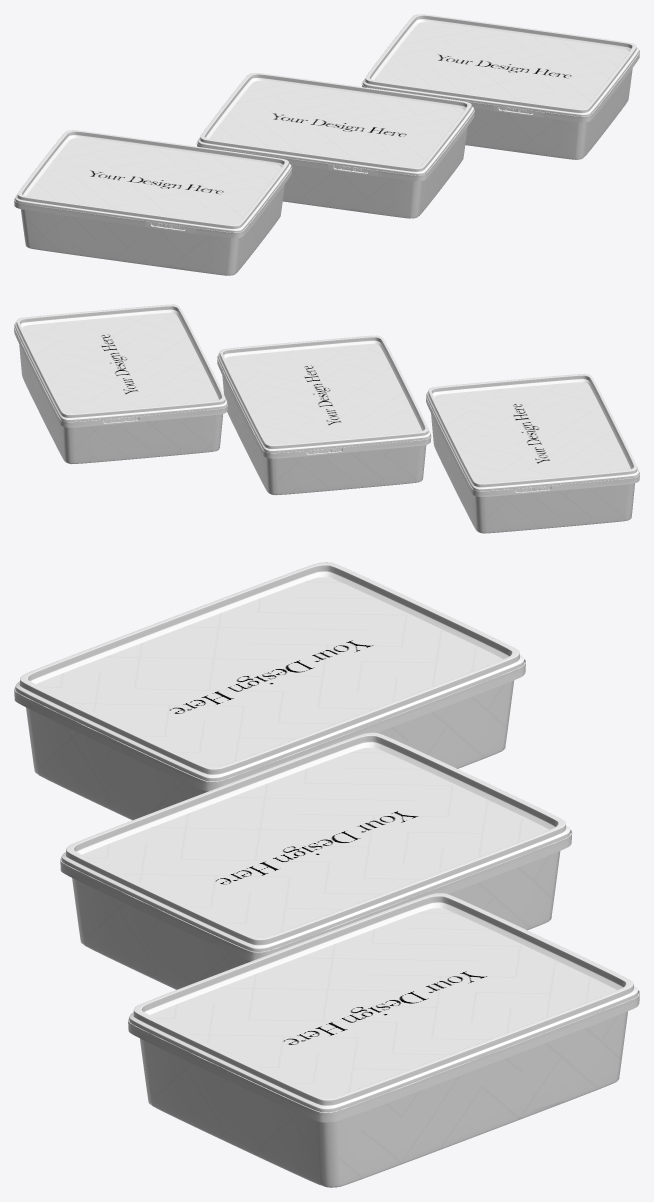
Rendered from TE Angle-5 .glb.
The picture shows the model from 3 angles, top to bottom: view 1: azimuth 30°, elevation 25°; view 2: azimuth 150°, elevation 25°; view 3: azimuth 270°, elevation 25°; orthographic projection. The views are drawn at different scales.
Parts seen in each view (by area): view 1: wrapper.002, wrapper.001, wrapper.003, lid.003, lid.002, lid.001, Plane.024, Plane.001, Plane.048, Bottom.002, Bottom.001, Bottom.003; view 2: wrapper.003, wrapper.002, wrapper.001, lid.003, lid.002, lid.001, Plane.001, Plane.048, Plane.024, Bottom.003, Bottom.001, Bottom.002; view 3: wrapper.003, wrapper.002, wrapper.001, lid.003, lid.002, lid.001, Plane.048, Plane.024, Plane.001, Bottom.003.
Boxes of the visible parts, left/top/right/bottom form: wrapper.002: left=25, top=138, right=284, bottom=275; wrapper.001: left=209, top=80, right=467, bottom=218; wrapper.003: left=374, top=22, right=632, bottom=159; lid.003: left=363, top=14, right=639, bottom=116; lid.002: left=15, top=130, right=291, bottom=232; lid.001: left=198, top=73, right=474, bottom=175; Plane.024: left=14, top=166, right=292, bottom=238; Plane.001: left=196, top=109, right=474, bottom=181; Plane.048: left=361, top=50, right=639, bottom=122; Bottom.002: left=20, top=184, right=284, bottom=275; Bottom.001: left=410, top=127, right=467, bottom=218; Bottom.003: left=575, top=69, right=632, bottom=159; wrapper.003: left=19, top=312, right=222, bottom=464; wrapper.002: left=431, top=382, right=634, bottom=533; wrapper.001: left=222, top=343, right=426, bottom=495; lid.003: left=14, top=304, right=227, bottom=421; lid.002: left=426, top=373, right=638, bottom=491; lid.001: left=218, top=335, right=430, bottom=452; Plane.001: left=217, top=356, right=431, bottom=458; Plane.048: left=14, top=325, right=227, bottom=427; Plane.024: left=426, top=394, right=639, bottom=496; Bottom.003: left=63, top=414, right=222, bottom=463; Bottom.001: left=266, top=445, right=425, bottom=494; Bottom.002: left=475, top=483, right=634, bottom=533; wrapper.003: left=143, top=908, right=625, bottom=1187; wrapper.002: left=29, top=577, right=511, bottom=820; wrapper.001: left=75, top=747, right=557, bottom=989; lid.003: left=129, top=893, right=638, bottom=1112; lid.002: left=15, top=562, right=524, bottom=781; lid.001: left=61, top=732, right=570, bottom=951; Plane.048: left=128, top=990, right=639, bottom=1122; Plane.024: left=14, top=659, right=525, bottom=791; Plane.001: left=60, top=830, right=572, bottom=961; Bottom.003: left=140, top=1011, right=627, bottom=1187.
Bounding box in the file's own units: 0.5426 × 0.0438 × 0.2643.
Materials: 3 (1 with a texture image).
